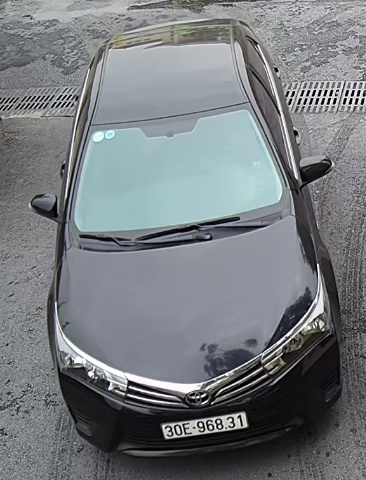vehicle plate: (151, 410, 267, 442)
